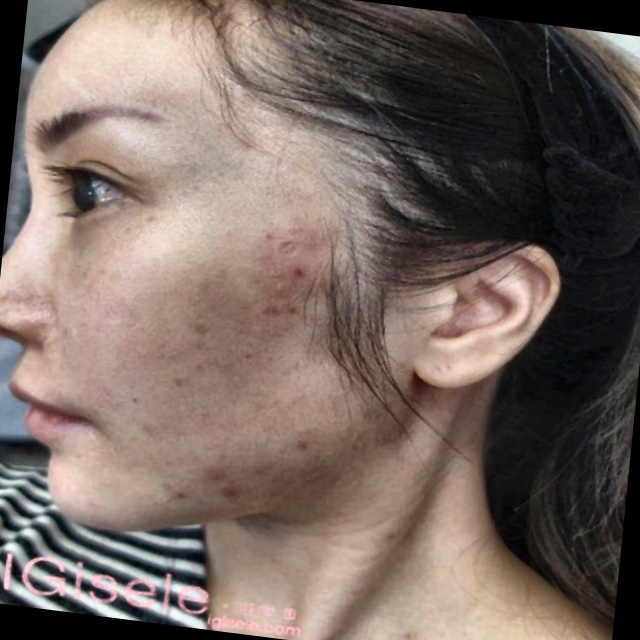comedone: (270, 220, 299, 248), (209, 457, 239, 481), (275, 258, 310, 277)
